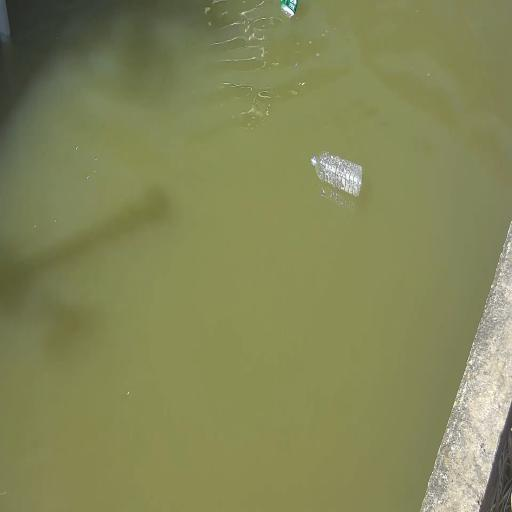plastic: (310, 150, 364, 198), (278, 0, 299, 20)
